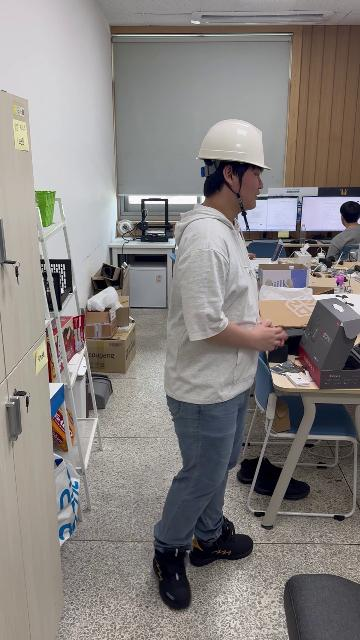helmet_worn: (193, 118, 273, 171)
shoe_not_worn: (237, 456, 308, 498), (237, 455, 267, 484)
shoe_worn: (190, 517, 252, 565), (153, 547, 190, 609)
vest_not_worn: (161, 213, 261, 401)
